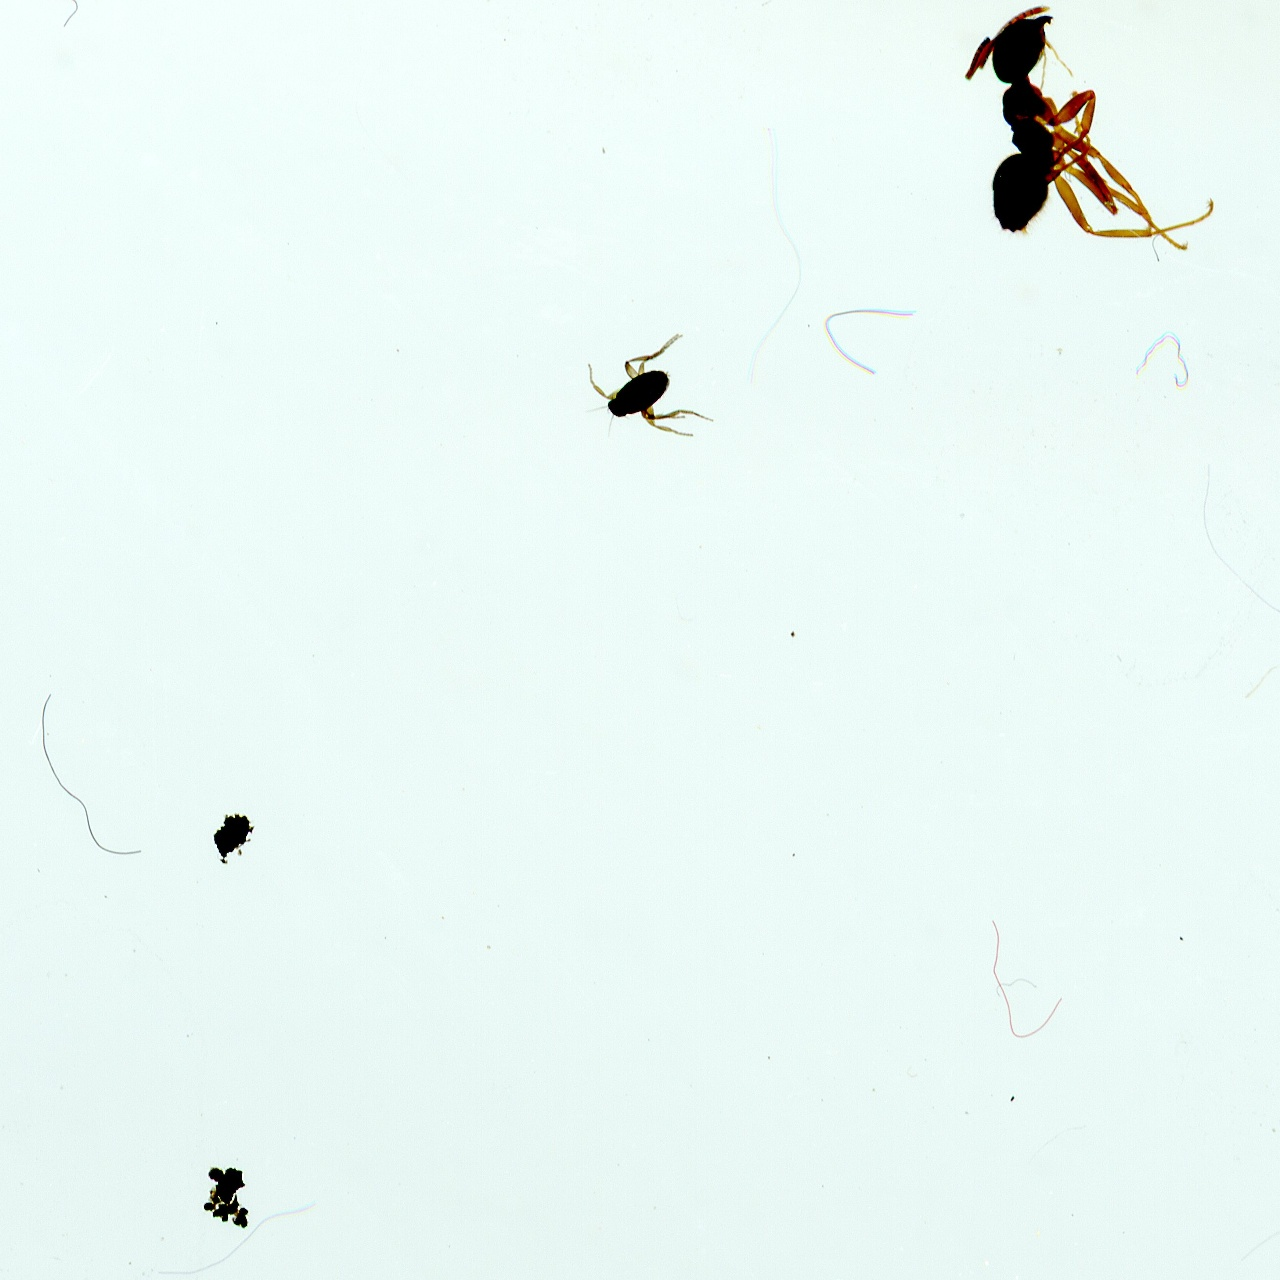arthropod: (907, 0, 1237, 331), (557, 315, 728, 478)
